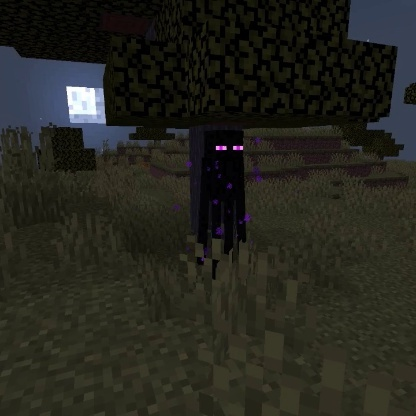enderman: (194, 127, 250, 281)
